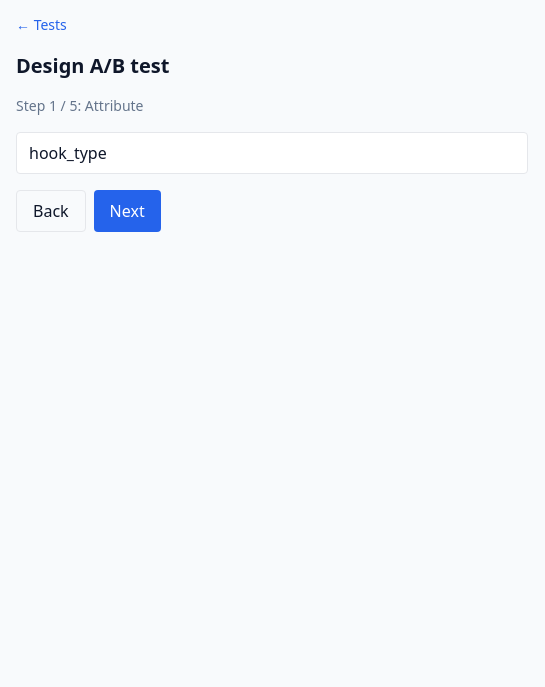
Test case: Phase 8 RTL (plan Step 12) › A/B wizard review shows numeric preview from preview-design API
Click the button "Next" at (127, 211), box [94,190,161,232]
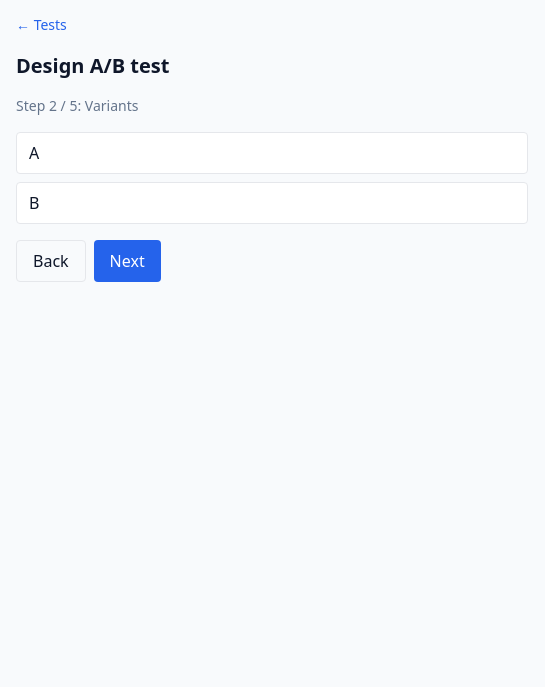
Click the button "Next" at (127, 261), box [94,240,161,282]
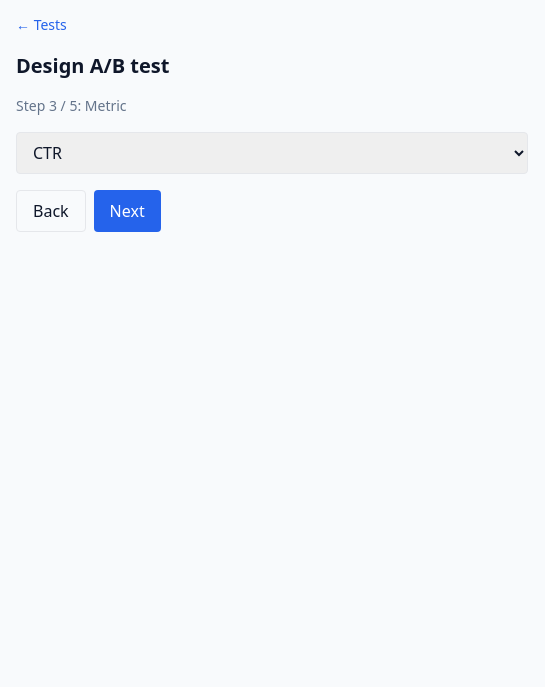
Click the button "Next" at (127, 211), box [94,190,161,232]
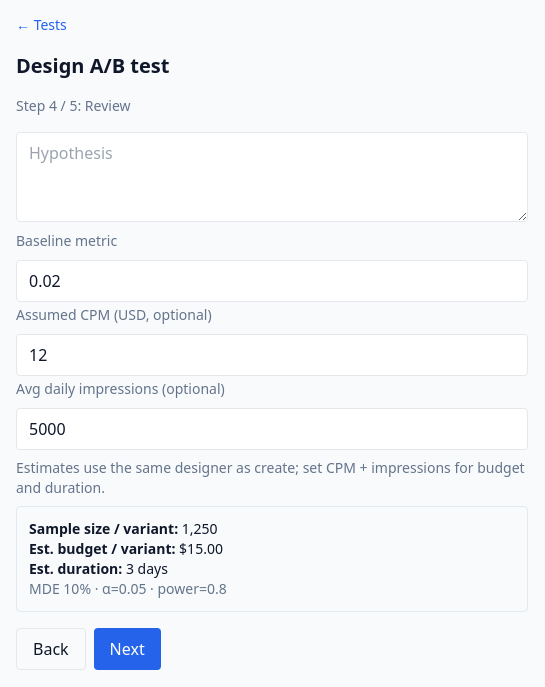
Now the element with test id "ab-design-preview" shows "1,250", box [182,519,218,538]
Now the element with test id "ab-design-preview" shows "$15.00", box [179,539,223,558]
Now the element with test id "ab-design-preview" shows "3 days", box [126,559,168,578]
